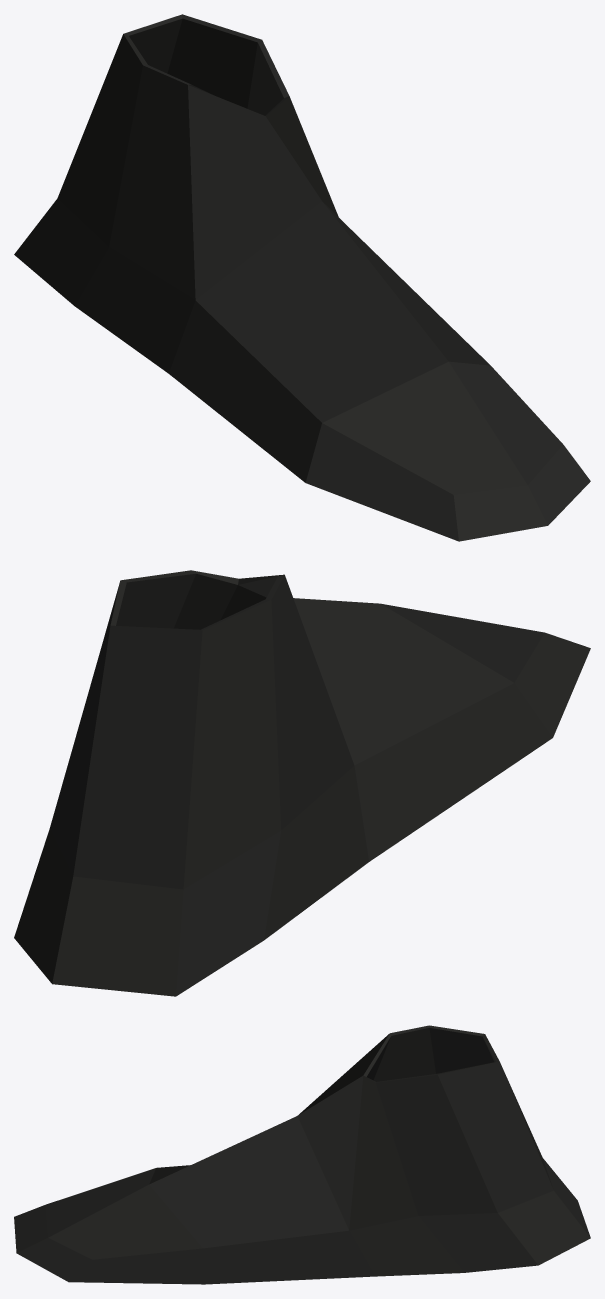
File: SabatonLeft_01.fbx
The picture shows the model from 3 angles, top to bottom: view 1: azimuth 30°, elevation 25°; view 2: azimuth 150°, elevation 25°; view 3: azimuth 270°, elevation 25°; orthographic projection. The views are drawn at different scales.
Visible parts, largest first — view 1: SabatonLeft_01; view 2: SabatonLeft_01; view 3: SabatonLeft_01.
Part boxes in pixels (box(x1,y1,x2,y2)): SabatonLeft_01: box(14, 14, 590, 541); SabatonLeft_01: box(14, 570, 590, 996); SabatonLeft_01: box(14, 1025, 590, 1284).
Size of the model in its own units: 9.15 by 10.21 by 27.73.
